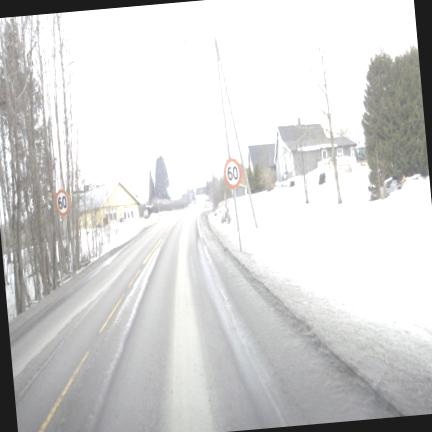Road: (9, 206, 394, 431)
